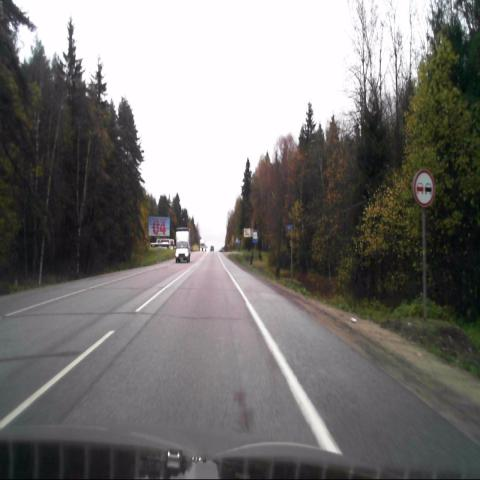3_20: (414, 169, 434, 206)
